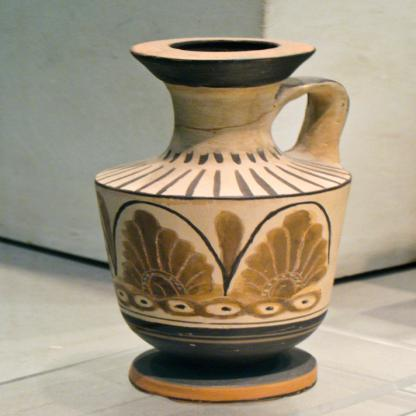vase: (92, 37, 353, 404)
